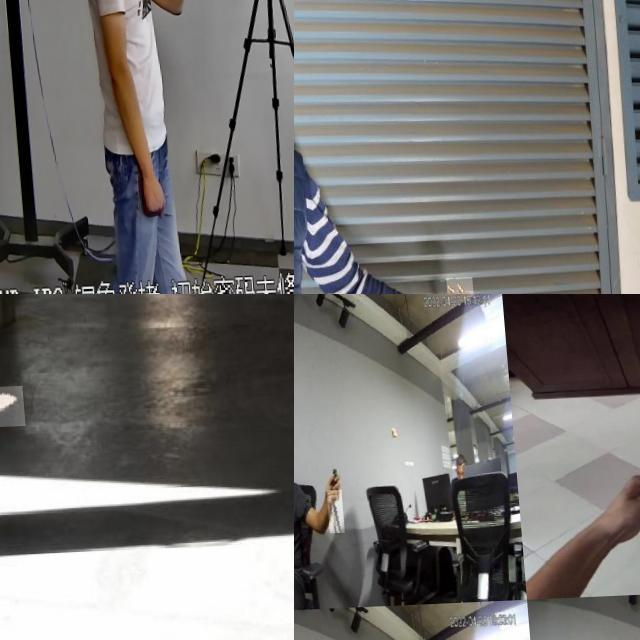-: (0, 388, 40, 430), (623, 387, 640, 470), (323, 490, 341, 534)
gun-knife-thesis - v11 Yolov5 augmented: (154, 0, 208, 50)
